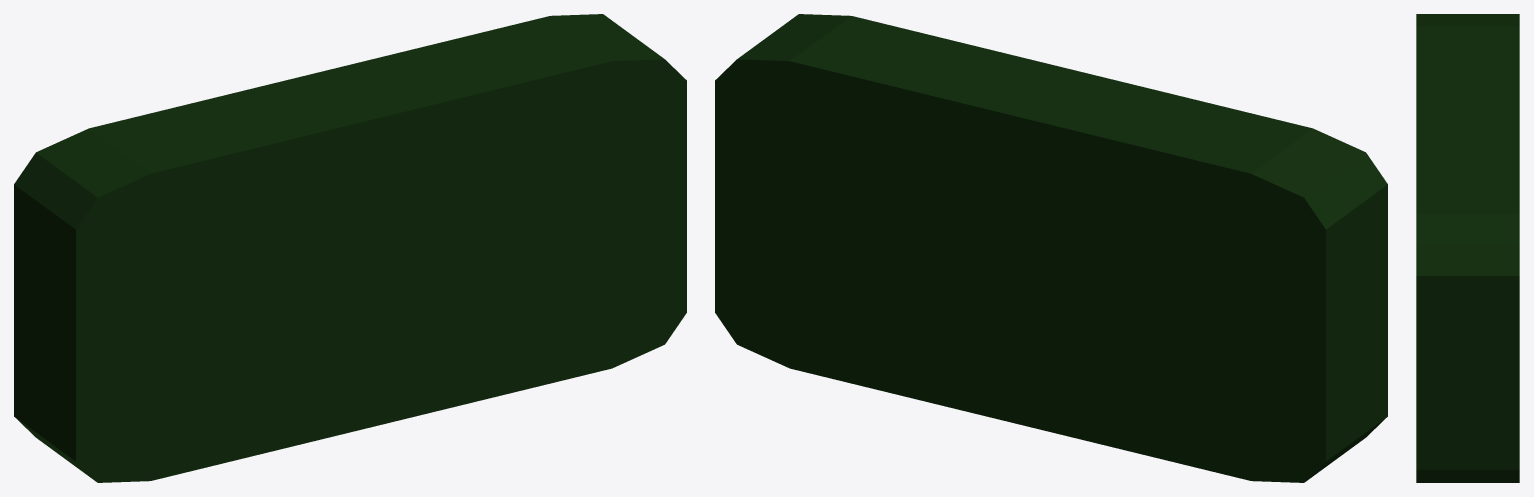
The model's file is RestartButton_cracked.obj.
3 views of the same model, side by side, from view 1: azimuth 30°, elevation 25°; view 2: azimuth 150°, elevation 25°; view 3: azimuth 270°, elevation 25° (orthographic). The views are drawn at different scales.
Parts seen in each view (by area): view 1: Cube.001_Cube.002, Cube.006_Cube.007, Cube.004_Cube.005, Cube.002_Cube.003, Cube.005_Cube.006, Cube.003_Cube.004; view 2: Cube.001_Cube.002, Cube.005_Cube.006, Cube.002_Cube.003, Cube.004_Cube.005, Cube.006_Cube.007, Cube.003_Cube.004; view 3: Cube.002_Cube.003, Cube.004_Cube.005, Cube.001_Cube.002, Cube.003_Cube.004.
Part boxes in pixels (bbox=[...]): Cube.001_Cube.002: bbox=[14, 82, 327, 390]; Cube.006_Cube.007: bbox=[14, 92, 483, 482]; Cube.004_Cube.005: bbox=[420, 81, 686, 394]; Cube.002_Cube.003: bbox=[278, 14, 686, 265]; Cube.005_Cube.006: bbox=[151, 266, 502, 480]; Cube.003_Cube.004: bbox=[612, 247, 686, 368]; Cube.001_Cube.002: bbox=[1006, 85, 1387, 387]; Cube.005_Cube.006: bbox=[815, 259, 1325, 482]; Cube.002_Cube.003: bbox=[715, 14, 1135, 258]; Cube.004_Cube.005: bbox=[715, 81, 1005, 374]; Cube.006_Cube.007: bbox=[1305, 224, 1387, 481]; Cube.003_Cube.004: bbox=[715, 244, 814, 374]; Cube.002_Cube.003: bbox=[1416, 98, 1519, 275]; Cube.004_Cube.005: bbox=[1416, 276, 1519, 414]; Cube.001_Cube.002: bbox=[1416, 14, 1519, 103]; Cube.003_Cube.004: bbox=[1416, 412, 1519, 482].
Bounding box in the file's own units: 2.1 × 1.01 × 0.3695.
